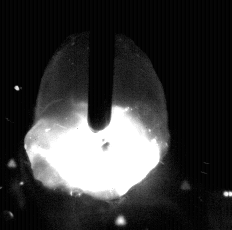arame: (88, 0, 113, 133)
poca: (25, 0, 172, 230)
